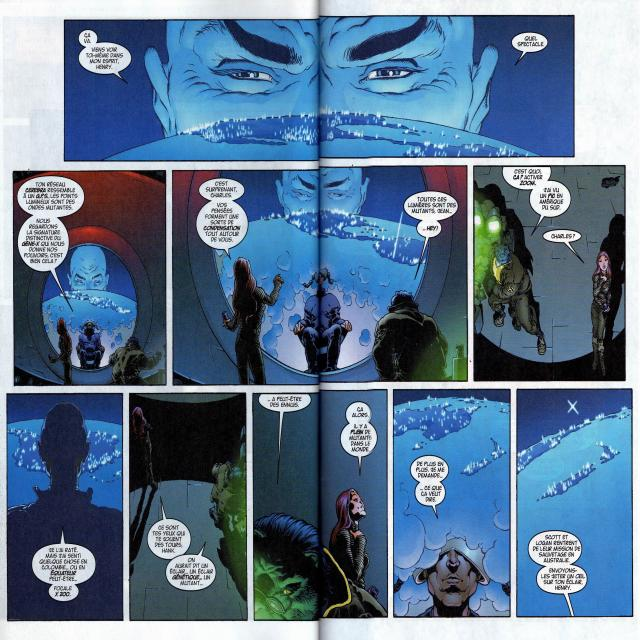comic_panel: (63, 13, 574, 162), (172, 165, 469, 386), (12, 169, 167, 385), (473, 165, 625, 382), (252, 389, 389, 621), (392, 388, 510, 618), (129, 392, 247, 622), (6, 393, 124, 622), (516, 388, 634, 616)
